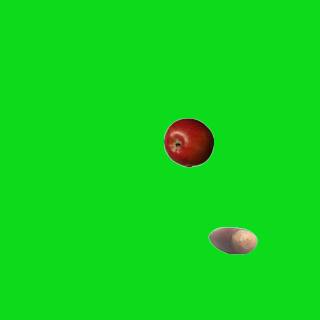Apple Braeburn: (163, 117, 213, 167)
Hazelnut: (207, 215, 257, 265)
